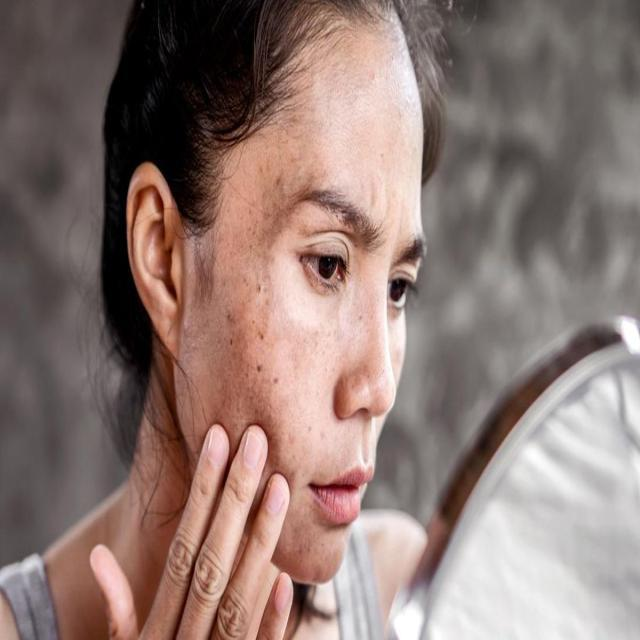dry: (240, 365, 290, 435), (224, 280, 256, 366), (259, 145, 295, 221)
